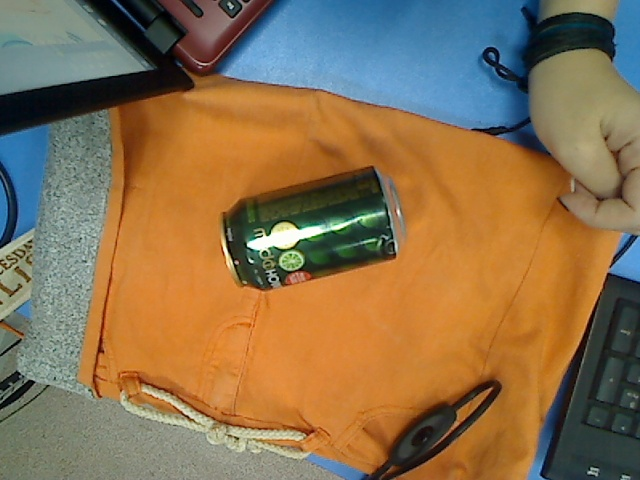can: (218, 166, 409, 295)
